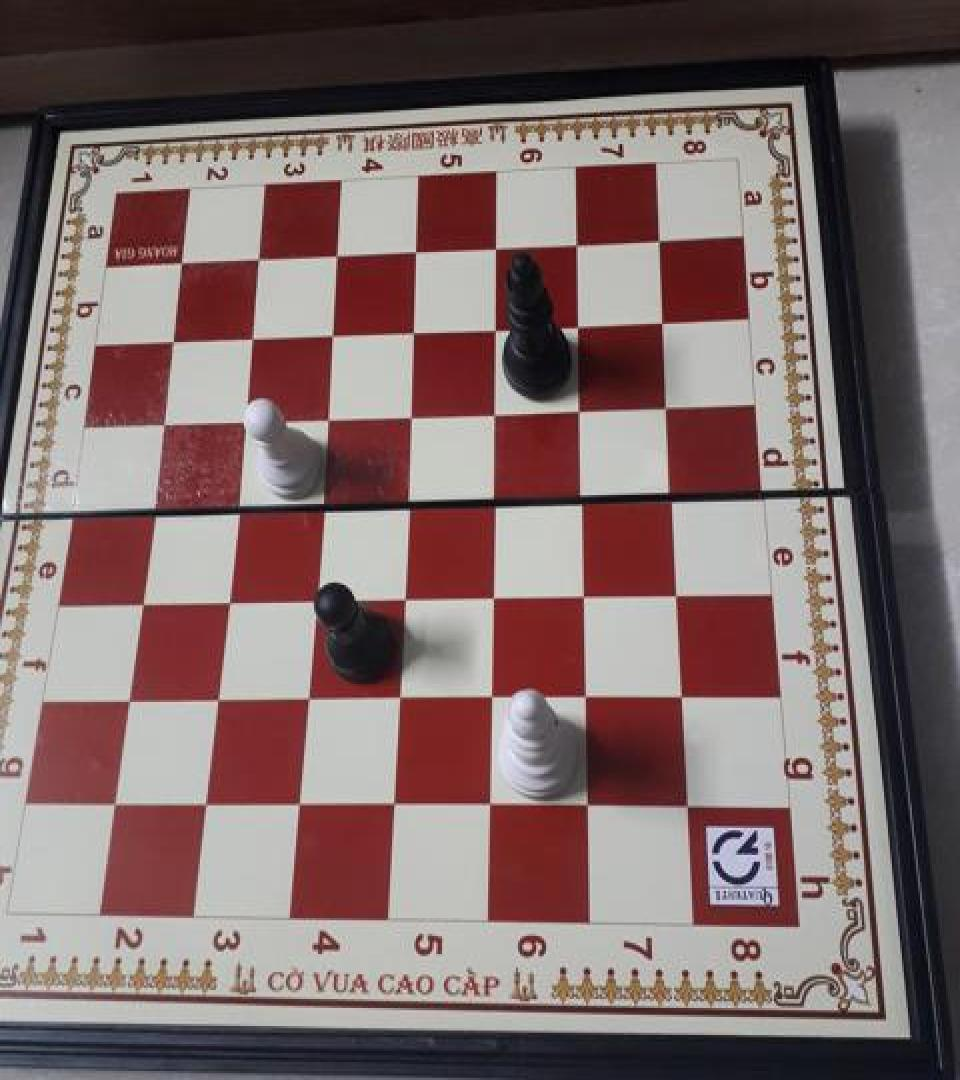xcorner: (293, 579, 325, 616), (206, 580, 238, 617), (121, 581, 153, 618), (468, 786, 500, 823), (640, 223, 672, 259), (558, 226, 590, 262), (476, 230, 508, 266), (396, 234, 428, 270), (318, 238, 350, 274), (240, 242, 272, 278), (164, 246, 196, 282), (644, 302, 676, 338), (559, 306, 591, 342), (475, 310, 507, 346), (393, 313, 425, 349), (312, 316, 344, 352), (232, 320, 264, 356), (154, 323, 186, 359), (648, 388, 680, 424), (474, 394, 506, 430), (389, 396, 421, 432), (306, 400, 338, 436), (224, 402, 256, 438), (144, 404, 176, 440), (652, 478, 684, 514), (562, 480, 594, 516), (473, 482, 505, 518), (385, 485, 417, 521), (300, 487, 332, 523), (215, 488, 247, 524), (133, 490, 165, 526), (657, 575, 689, 611), (563, 576, 595, 612), (471, 577, 503, 613), (381, 578, 413, 614), (661, 678, 693, 714), (565, 678, 597, 714), (470, 678, 502, 714), (377, 678, 409, 714), (286, 678, 318, 714), (196, 680, 228, 716), (109, 680, 141, 716), (666, 788, 698, 824), (566, 788, 598, 824), (372, 785, 404, 821), (278, 784, 310, 820), (186, 784, 218, 820), (95, 783, 127, 819), (560, 391, 592, 426)
